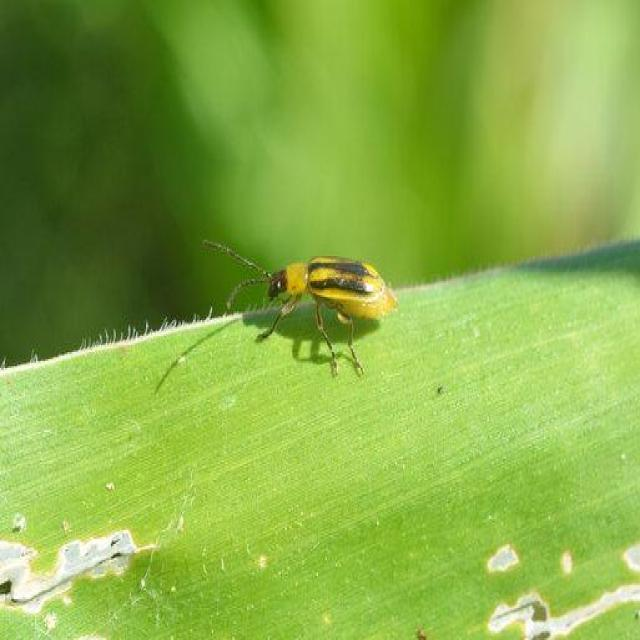trips: (201, 238, 398, 377)
